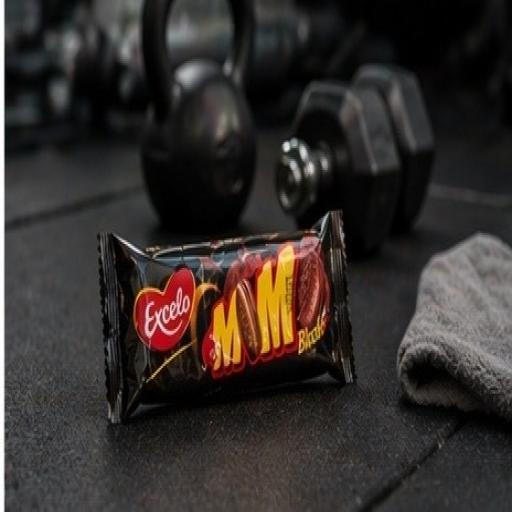MOMO: (69, 184, 395, 453)
